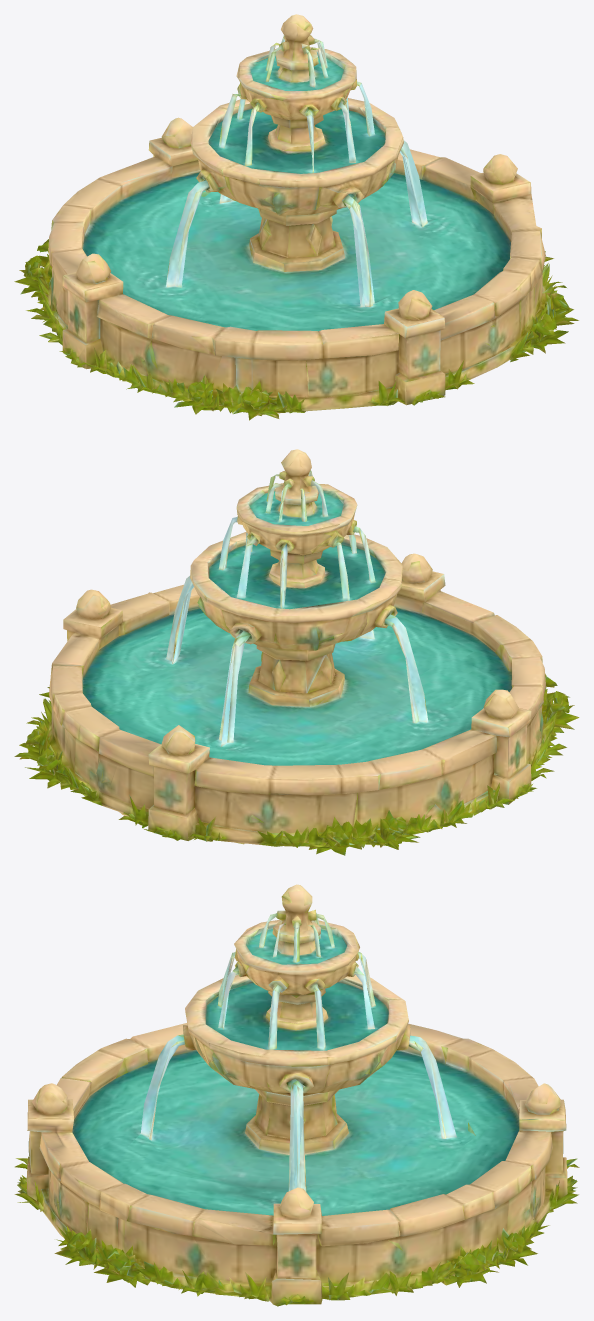
The model's file is fountain.glb.
3 renders of one model, top to bottom at view 1: azimuth 30°, elevation 25°; view 2: azimuth 150°, elevation 25°; view 3: azimuth 270°, elevation 25°, orthographic. The views are drawn at different scales.
Visible parts, largest first — view 1: Mesh1.0; view 2: Mesh1.0; view 3: Mesh1.0.
Boxes of the visible parts, x1,y1,x2,y2 form: Mesh1.0: (14,14,578,420); Mesh1.0: (14,449,579,855); Mesh1.0: (14,884,579,1306).
Bounding box in the file's own units: 1.9 × 1.15 × 1.9.
Materials: 1 (1 with a texture image).
